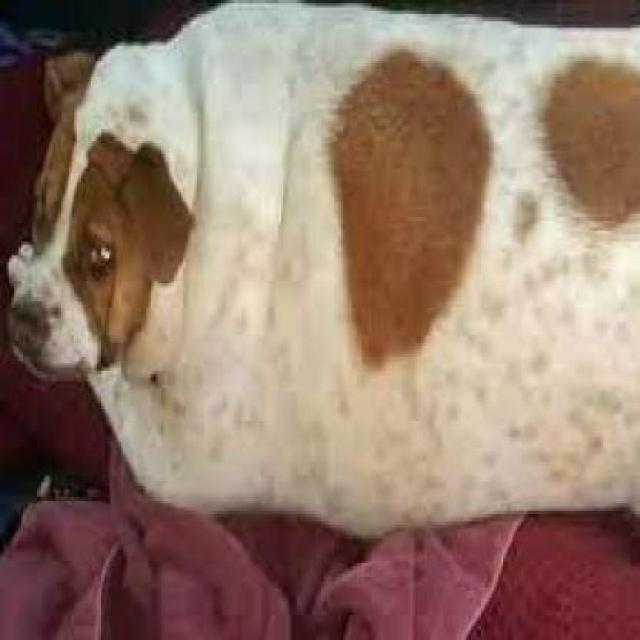Dog: (3, 0, 638, 532)
